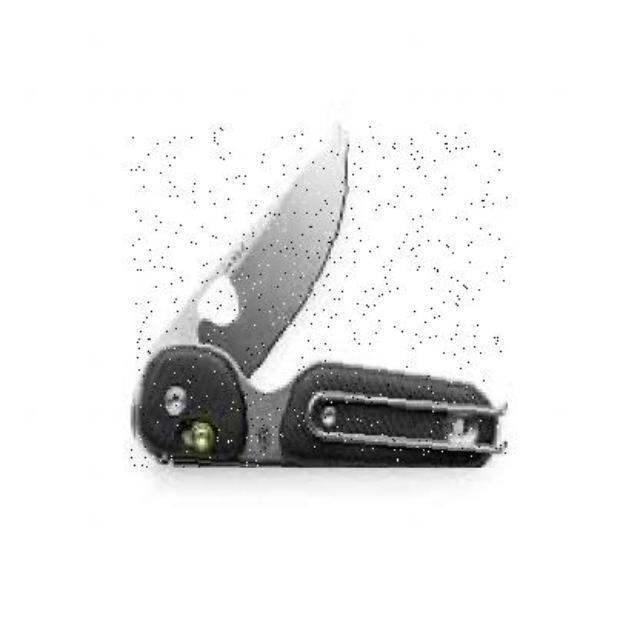Knife: (131, 126, 507, 468)
